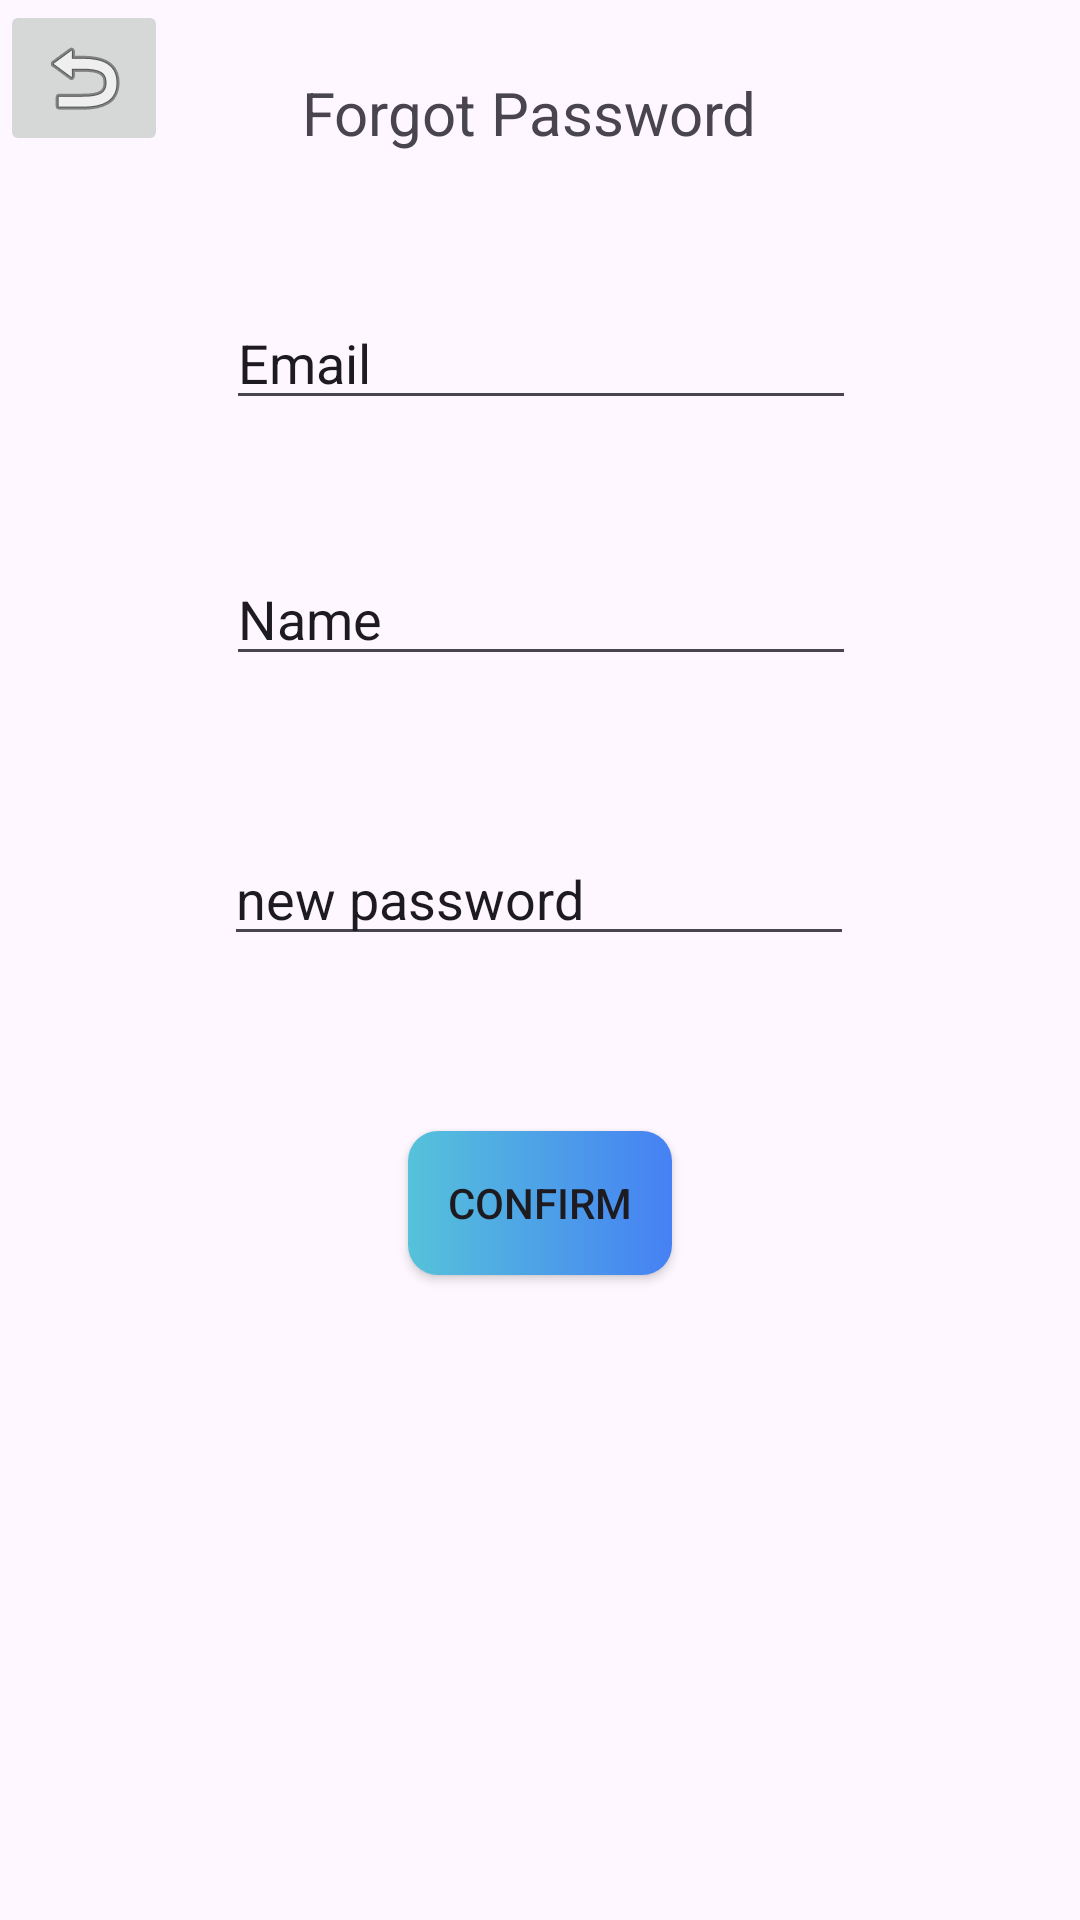

Icon click points for this 1080*1920 phone screenshot, format point (x, y):
revert: point (84, 78)
